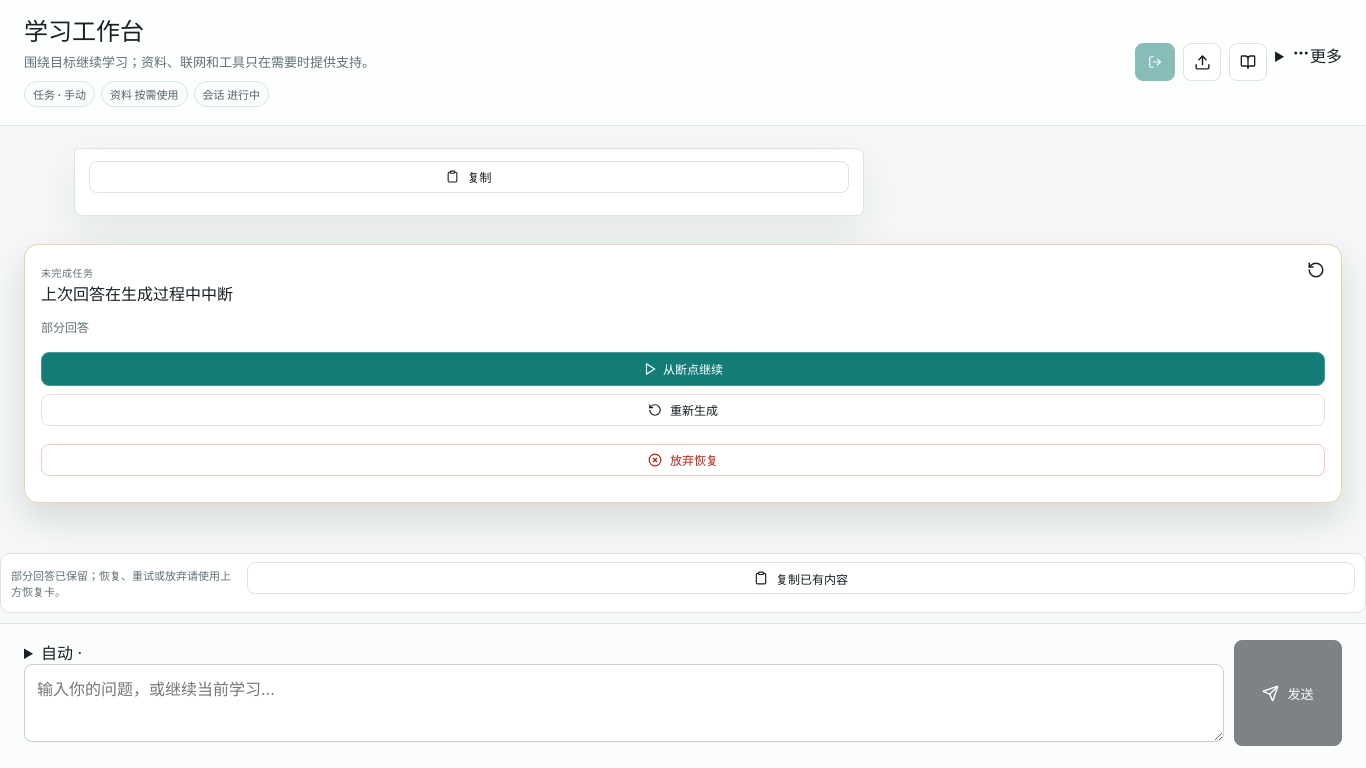
Test: ChatPanel copy feedback › reports interrupted-copy denial
Click the button "复制已有内容".
click(801, 578)  # box left=247, top=562, right=1355, bottom=594
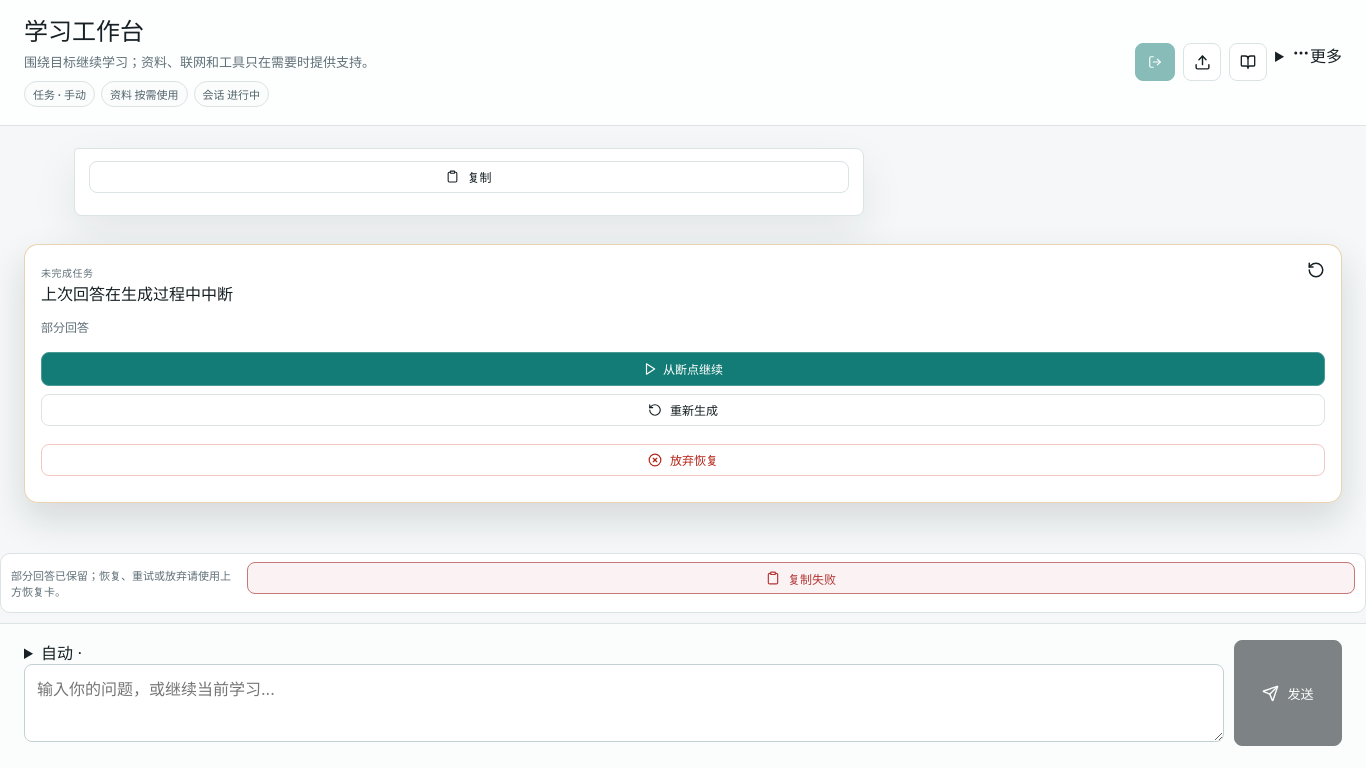
Expected: the button named "复制已有内容" reads "复制失败", left=247, top=562, right=1355, bottom=594
